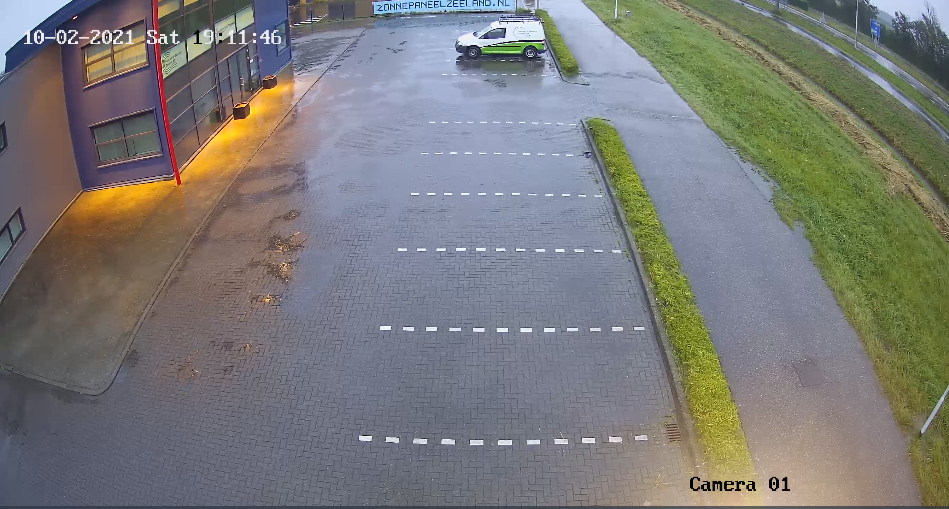werkbus: (448, 11, 548, 64)
